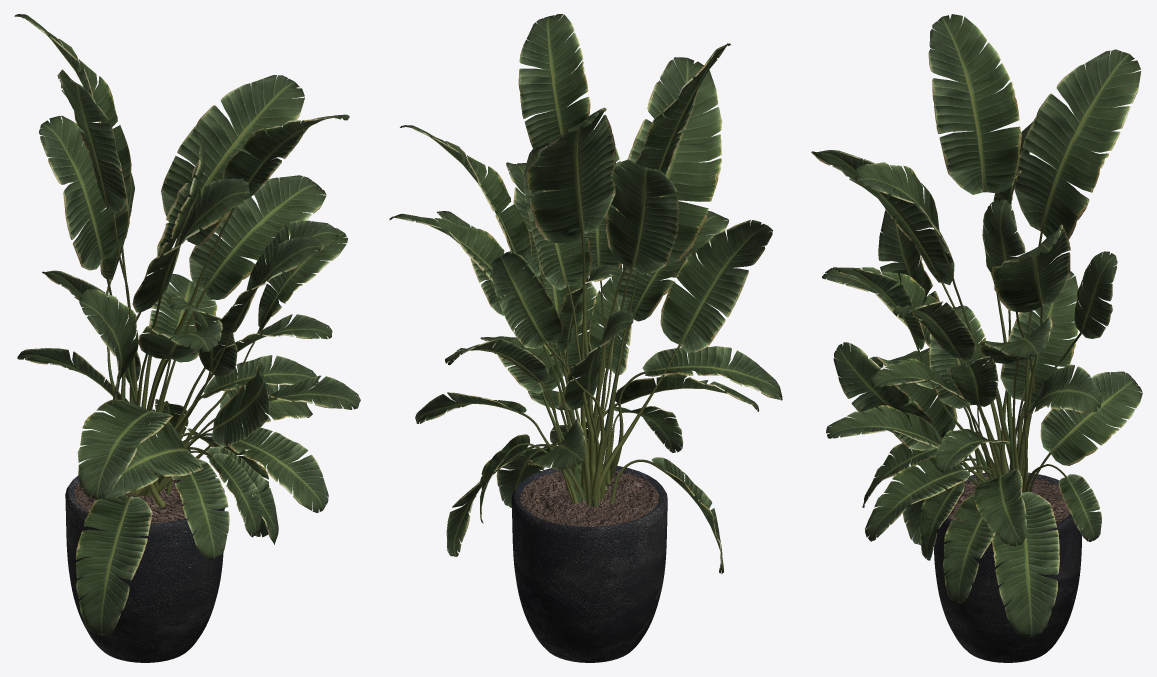
3 views of the same model, side by side, from view 1: azimuth 30°, elevation 25°; view 2: azimuth 150°, elevation 25°; view 3: azimuth 270°, elevation 25° (orthographic). The views are drawn at different scales.
Parts seen in each view (by area): view 1: Item_Banana Plants; view 2: Item_Banana Plants; view 3: Item_Banana Plants.
Part boxes in pixels (x1=…): Item_Banana Plants: x1=14, y1=14, x2=360, y2=662; Item_Banana Plants: x1=389, y1=14, x2=782, y2=662; Item_Banana Plants: x1=811, y1=14, x2=1142, y2=662.
Size of the model in its own units: 0.4691 by 0.8677 by 0.4489.
4 materials, 4 textured.
